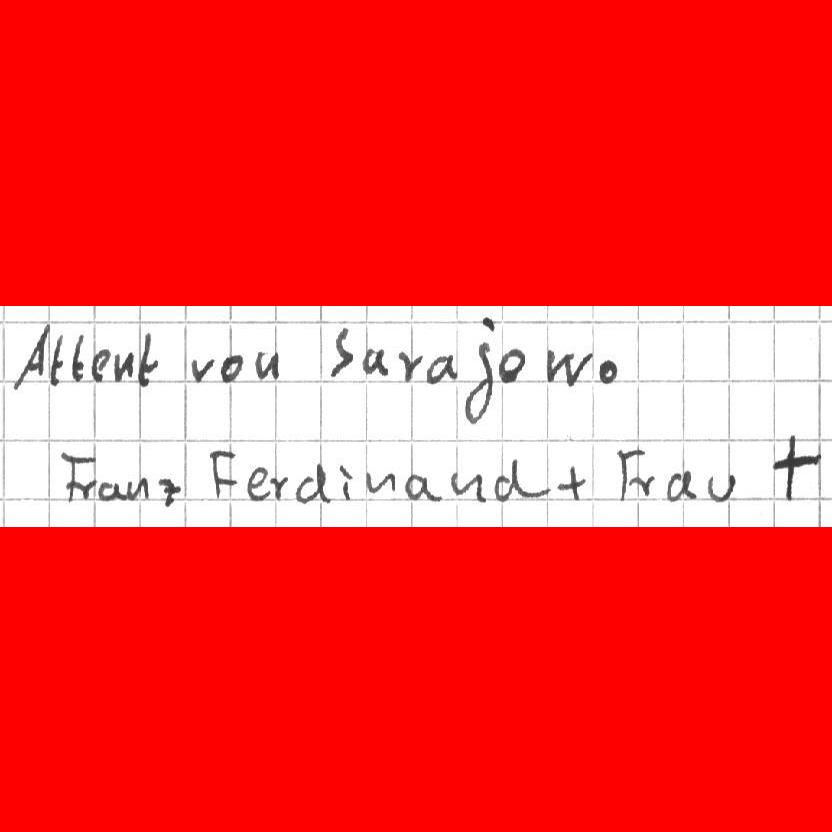Char: (770, 429, 824, 502), (460, 312, 494, 426), (492, 455, 551, 503), (13, 320, 51, 391), (543, 344, 590, 390), (208, 444, 241, 502), (614, 444, 643, 501), (553, 461, 591, 503), (57, 448, 85, 504), (294, 462, 332, 502), (135, 327, 160, 387), (449, 468, 488, 504), (327, 327, 355, 377), (400, 471, 443, 503), (497, 344, 527, 385), (242, 461, 272, 502), (665, 467, 698, 502), (425, 352, 461, 384), (704, 468, 736, 503), (156, 473, 184, 512), (363, 466, 398, 496), (48, 332, 67, 386), (359, 346, 392, 377), (396, 348, 423, 383), (336, 461, 360, 500), (219, 349, 246, 383), (254, 349, 280, 383), (112, 347, 135, 384), (70, 330, 87, 380), (594, 353, 619, 387), (188, 354, 217, 382), (126, 472, 153, 502), (96, 476, 123, 503), (92, 346, 111, 382), (628, 472, 654, 498), (267, 471, 288, 503), (78, 476, 95, 501)
